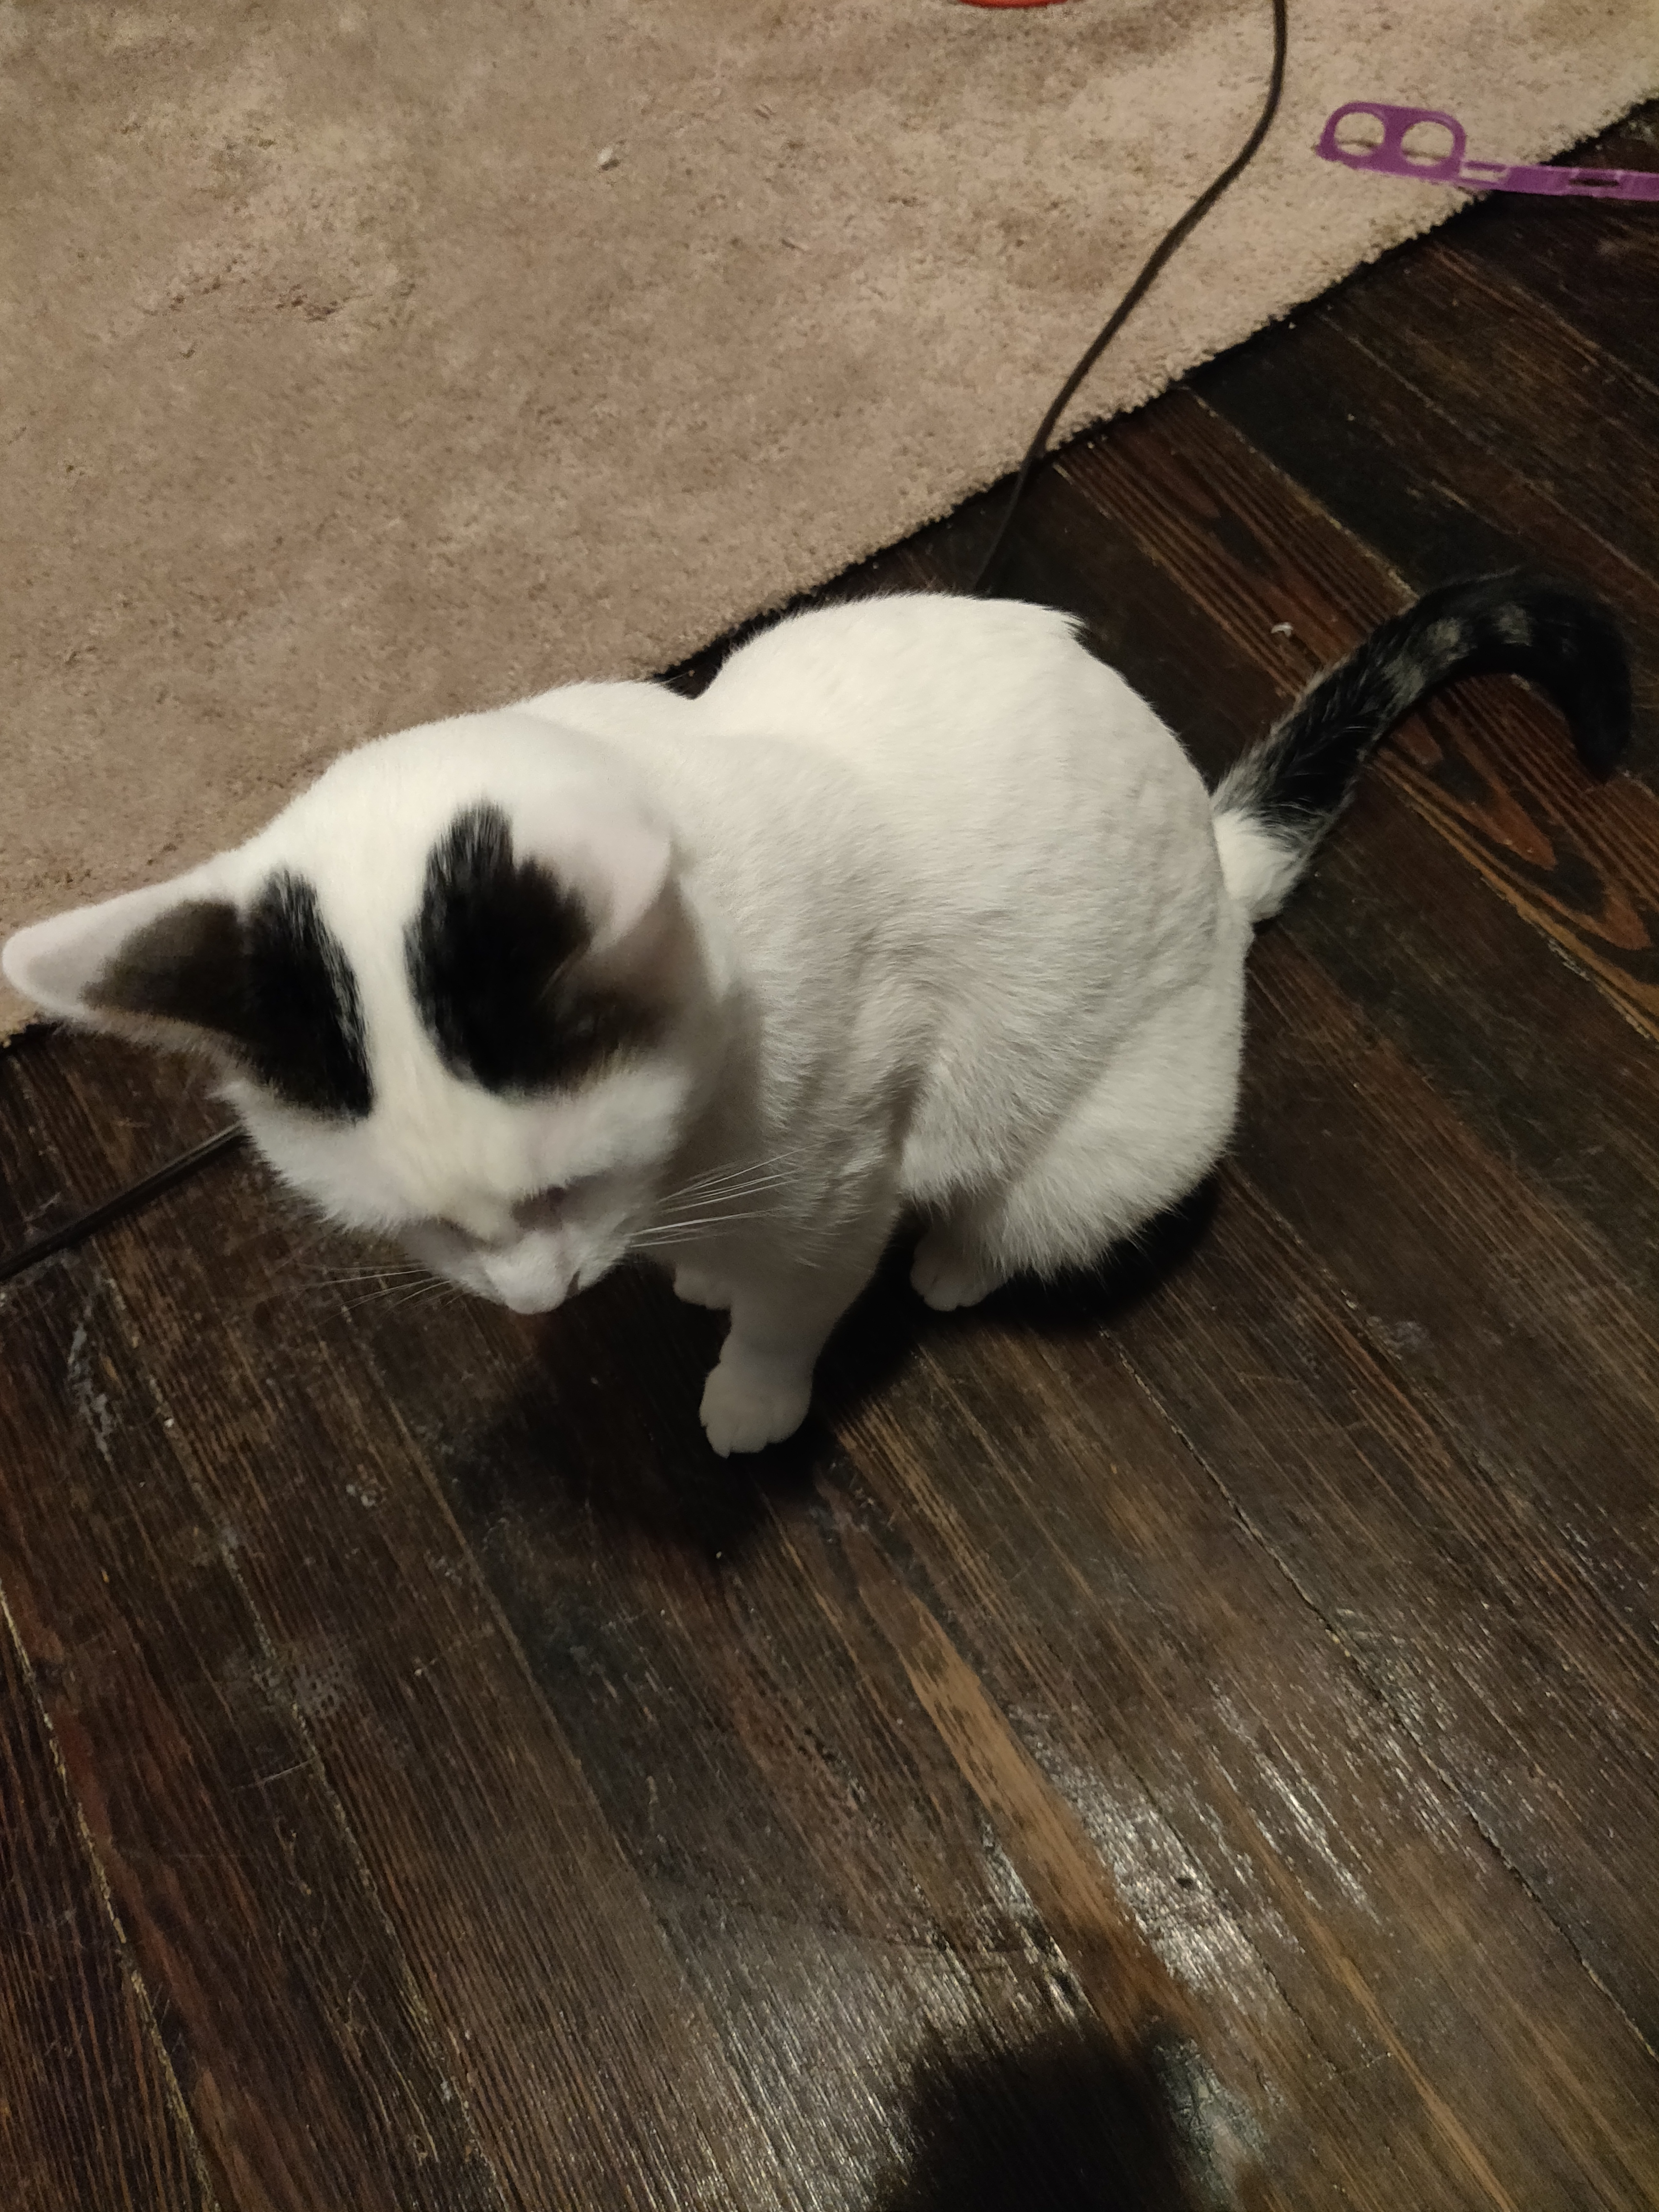cat: (5, 573, 1637, 1469)
